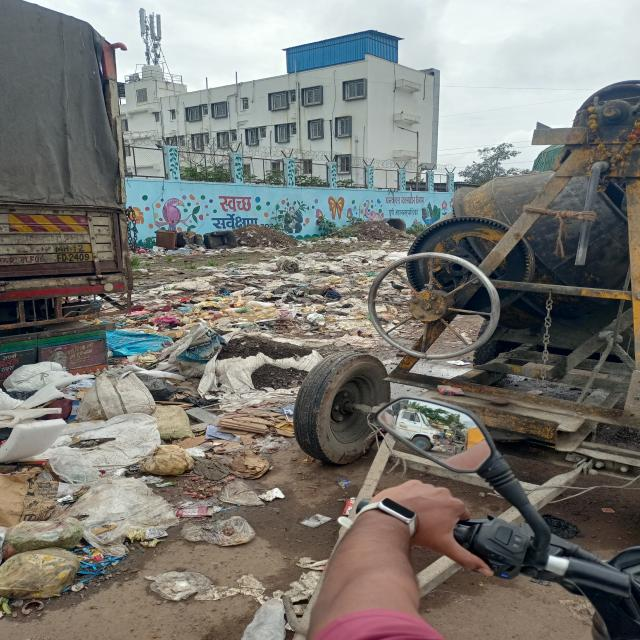garbage: (0, 364, 183, 597), (116, 276, 341, 394), (154, 224, 412, 256), (252, 249, 417, 288), (344, 289, 409, 348)
